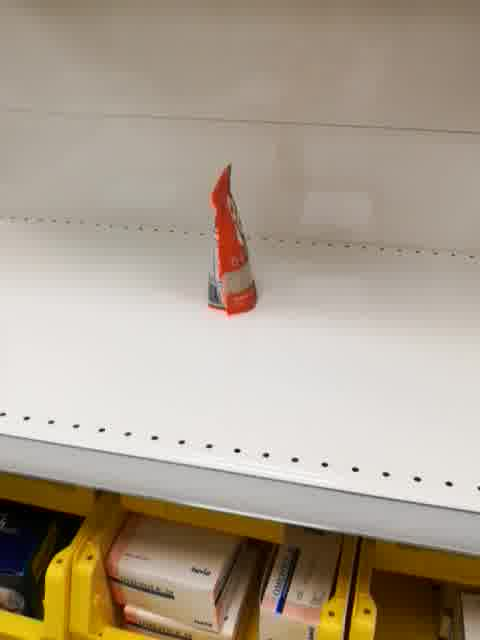whitechia: (203, 160, 262, 318)
